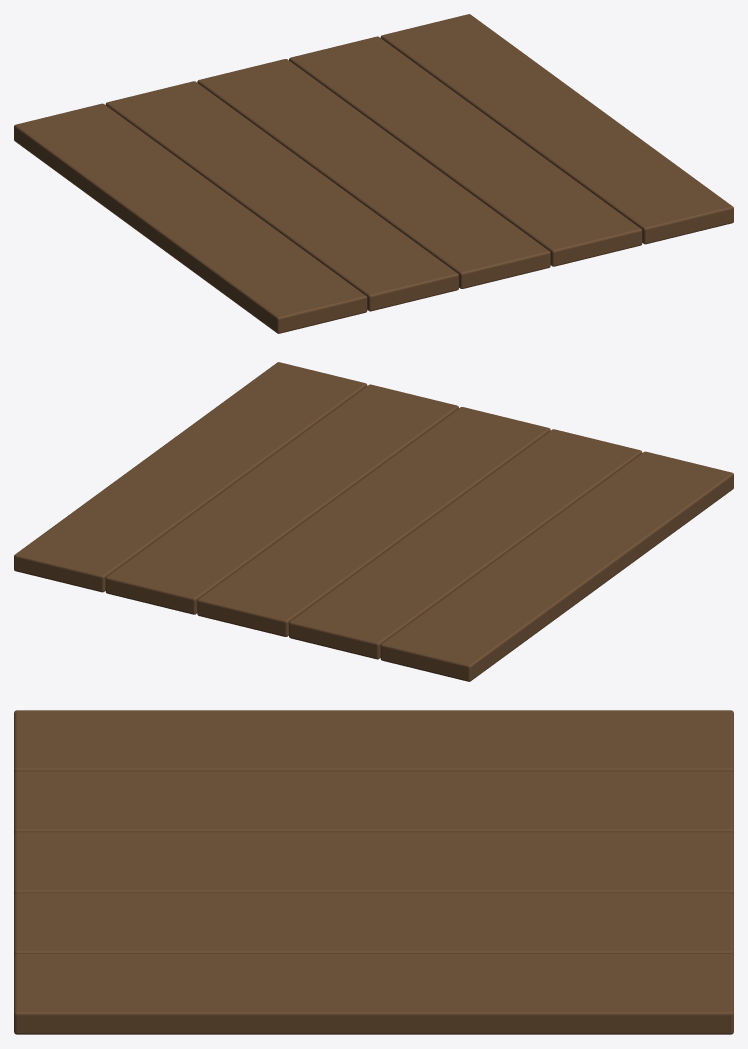
File: FloorPanel.fbx
3 views of the same model, one above another, from view 1: azimuth 30°, elevation 25°; view 2: azimuth 150°, elevation 25°; view 3: azimuth 270°, elevation 25° (orthographic). The views are drawn at different scales.
Visible parts, largest first — view 1: Board_00, Board_03, Board_01, Board_02, Board_04; view 2: Board_00, Board_03, Board_01, Board_02, Board_04; view 3: Board_04, Board_00, Board_01, Board_02, Board_03.
Boxes of the visible parts, x1,y1,x2,y2 form: Board_00: (14, 103, 367, 333); Board_03: (289, 36, 642, 266); Board_01: (105, 81, 458, 311); Board_02: (197, 59, 550, 288); Board_04: (380, 14, 733, 244); Board_00: (380, 451, 733, 681); Board_03: (105, 384, 458, 614); Board_01: (289, 429, 642, 659); Board_02: (197, 407, 550, 636); Board_04: (14, 362, 367, 592); Board_04: (14, 953, 733, 1034); Board_00: (14, 710, 733, 773); Board_01: (14, 771, 733, 833); Board_02: (14, 832, 733, 894); Board_03: (14, 893, 733, 955).
Bounding box in the file's own units: 199 × 7 × 200.
